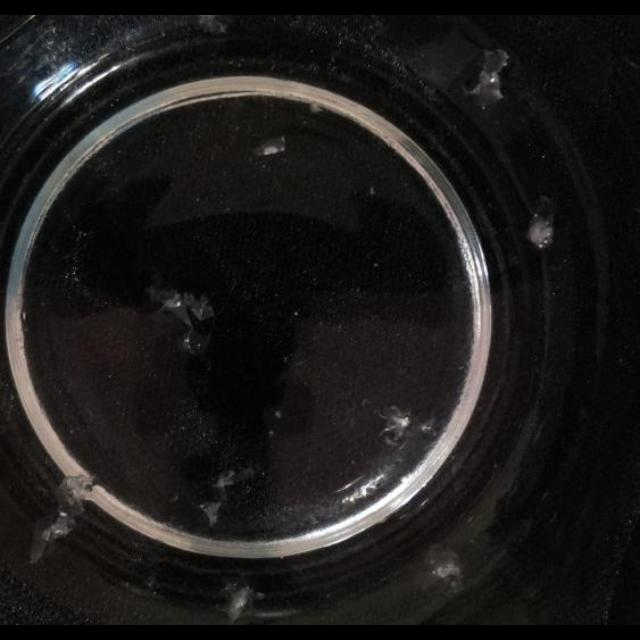Fibre: (334, 402, 442, 512), (29, 472, 93, 566), (148, 288, 216, 350), (196, 464, 254, 526), (464, 46, 510, 108), (424, 548, 464, 594), (58, 473, 96, 515), (376, 405, 414, 445), (526, 196, 554, 248), (221, 581, 253, 623), (198, 499, 224, 527), (254, 136, 286, 156), (196, 16, 228, 34), (211, 469, 237, 488), (310, 102, 324, 114)
microbeads: (418, 418, 438, 436), (272, 409, 282, 419), (368, 185, 376, 195), (266, 429, 274, 437), (292, 310, 298, 318)
